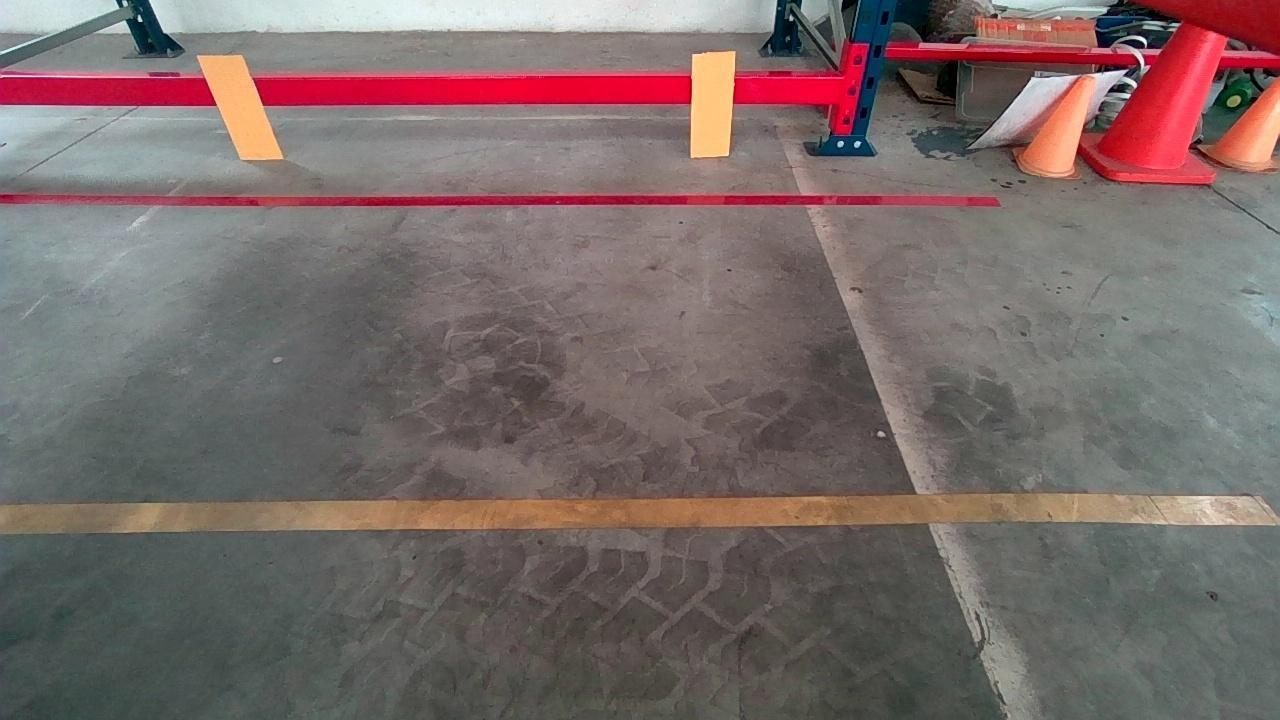red_line: (11, 179, 987, 215)
yellow_line: (22, 475, 1264, 551)
